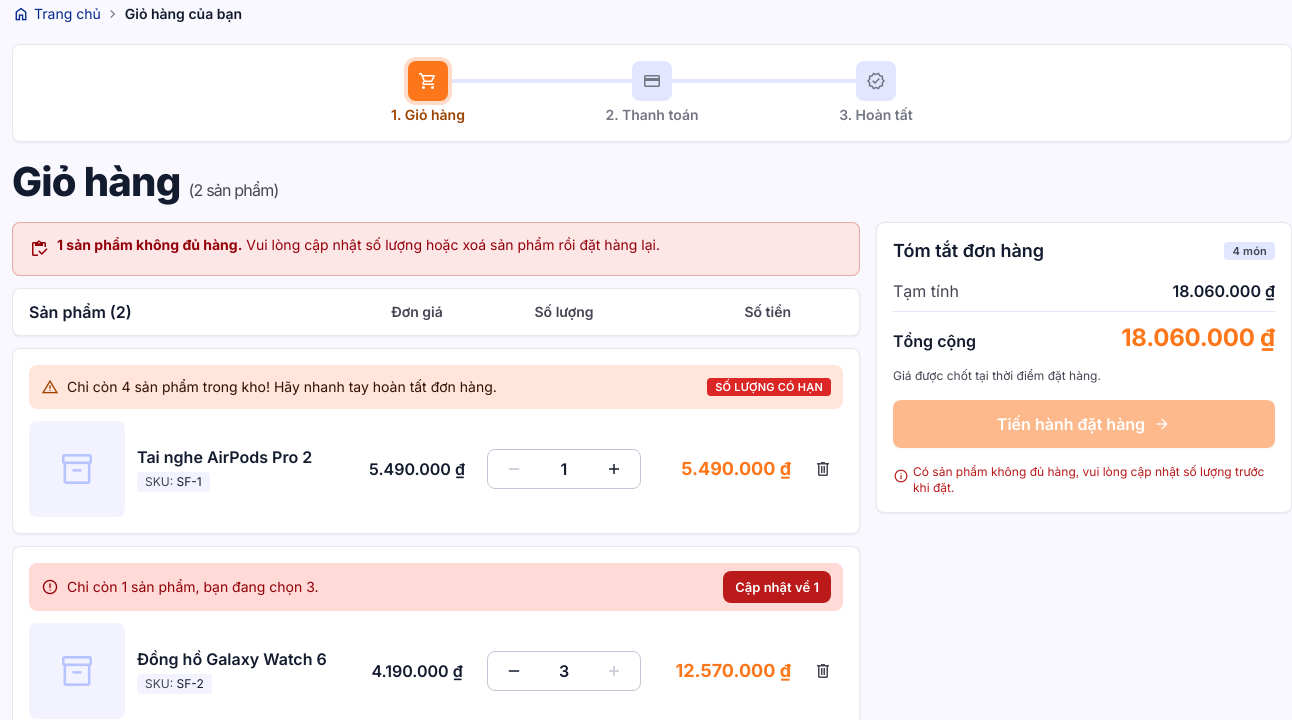
Test: CartPage › cảnh báo tồn kho theo dòng: sắp hết (cam) và thiếu hàng (đỏ, chặn đặt hàng)
Check: the link "Tai nghe AirPods Pro 2" is shown, box [137,447,312,467]
Check: the text "Chỉ còn 4 sản phẩm trong kho!" is shown, box [41,373,497,401]
Click the button "Cập nhật về 1". click: (777, 587)
box: [723,571,831,603]
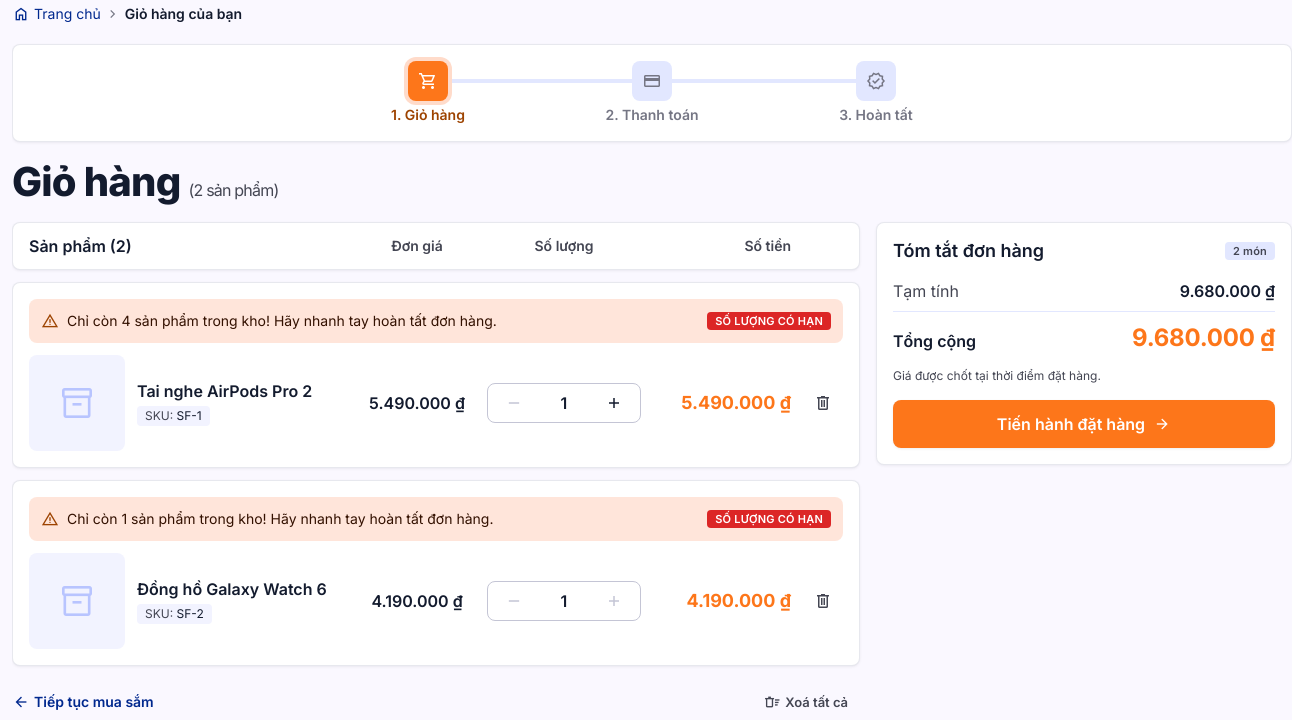
Check: the button "Tiến hành đặt hàng" is enabled, box [893,400,1275,448]
